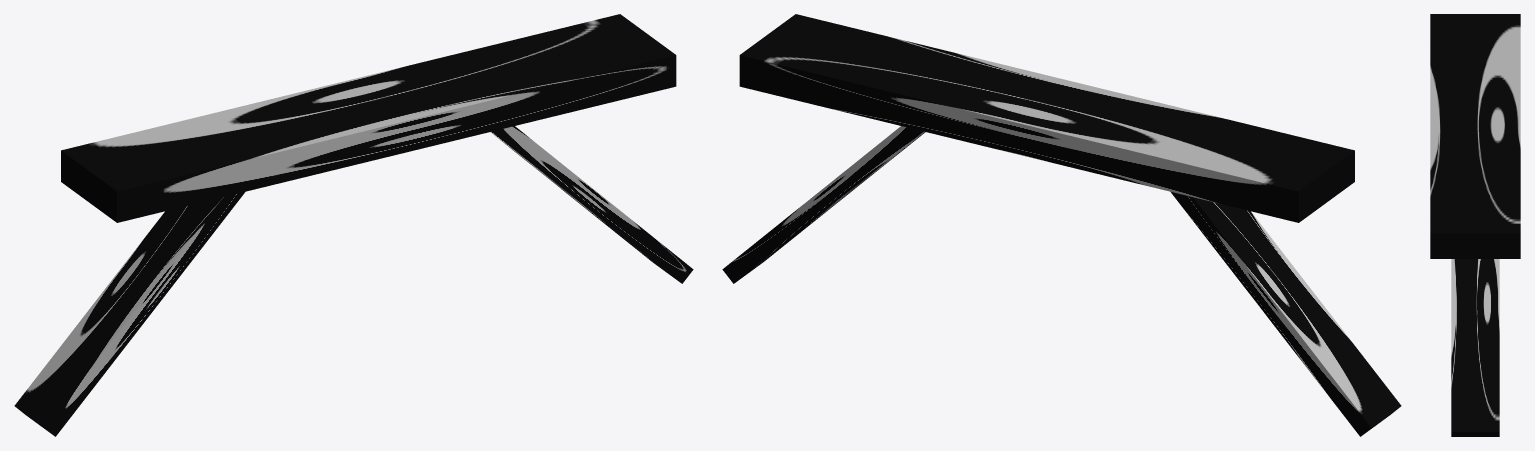
The model's file is MOD_EnemyBeam.fbx.
3 renders of one model, left to right at view 1: azimuth 30°, elevation 25°; view 2: azimuth 150°, elevation 25°; view 3: azimuth 270°, elevation 25°, orthographic. The views are drawn at different scales.
Visible parts, largest first — view 1: pCube153, pCube154, pCube155; view 2: pCube153, pCube154, pCube155; view 3: pCube153, pCube155.
Part boxes in pixels (x1,y1,x2,y2): pCube153: (61,14,676,222); pCube154: (14,191,245,436); pCube155: (490,126,693,283); pCube153: (739,14,1354,222); pCube154: (1170,191,1401,436); pCube155: (722,126,925,283); pCube153: (1430,14,1520,258); pCube155: (1451,259,1499,436).
Bounding box in the file's own units: 3.97 × 1.42 × 0.5957.
